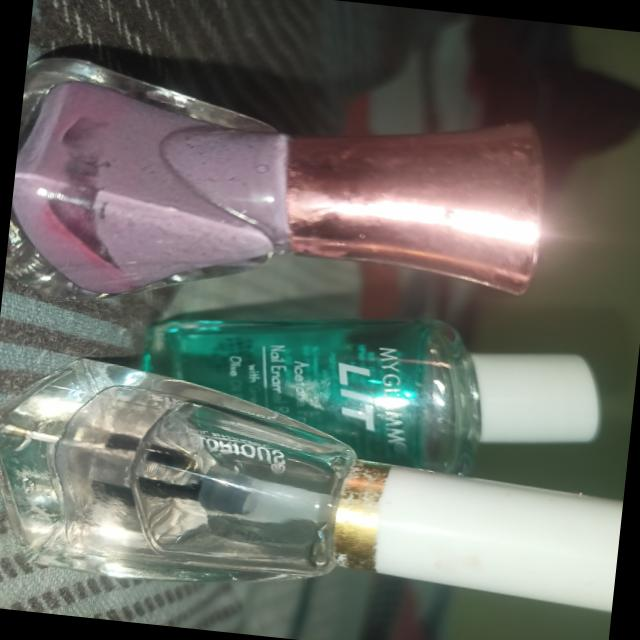glass: (0, 326, 624, 625), (5, 29, 565, 324), (142, 294, 609, 507)
